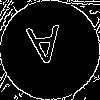A: (25, 25, 64, 75)
